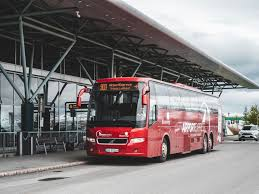bus: (77, 76, 224, 161)
